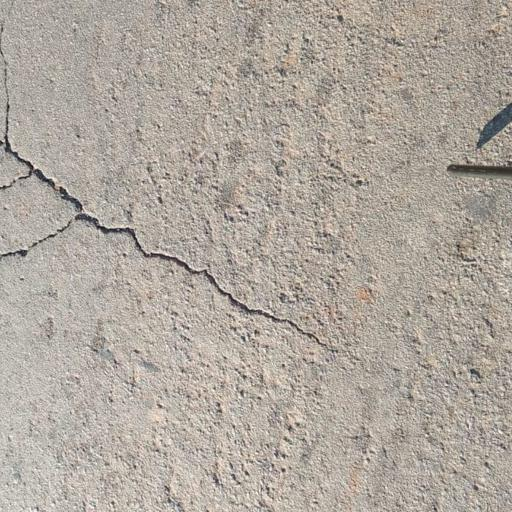GRIETA: (76, 212, 328, 347), (0, 19, 82, 211), (0, 217, 76, 260), (0, 170, 31, 189)
